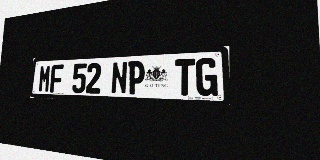2: (86, 63, 101, 94)
5: (72, 63, 87, 93)
F: (50, 64, 64, 93)
G: (196, 57, 218, 96)
M: (38, 65, 51, 93)
N: (111, 61, 128, 94)
P: (127, 61, 145, 95)
T: (175, 58, 195, 96)
